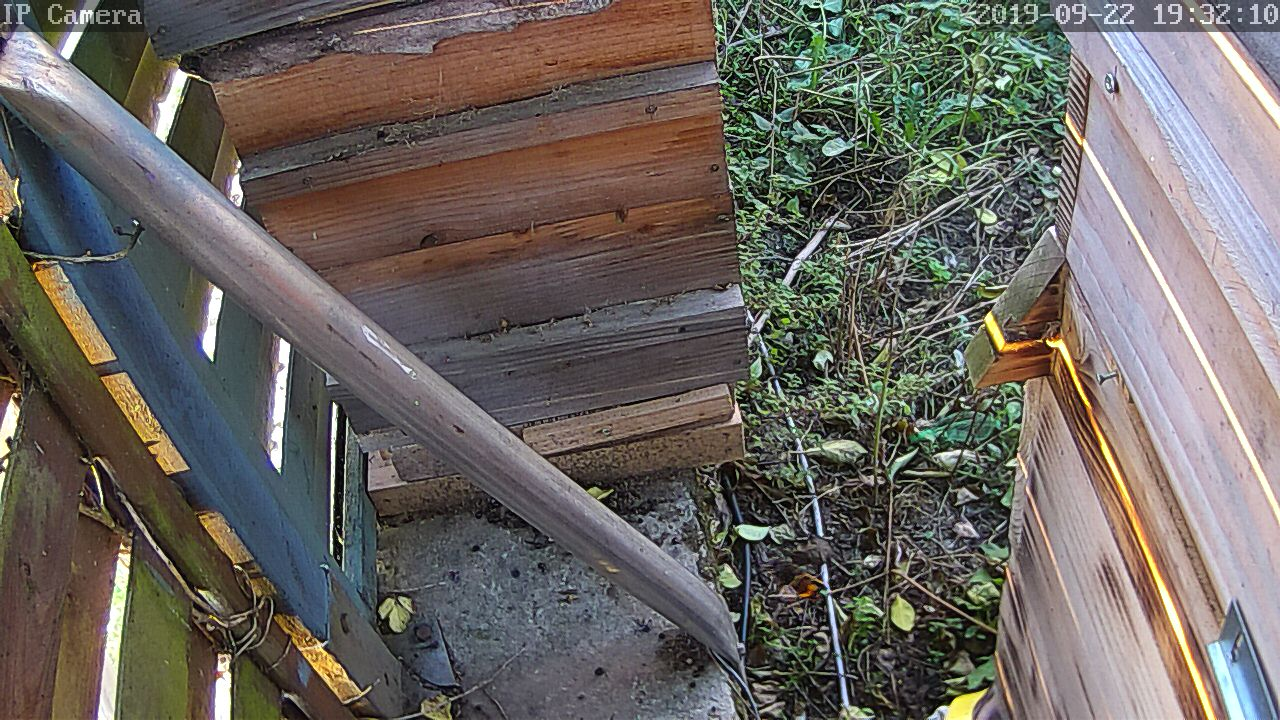hornet: (775, 558, 834, 601)
